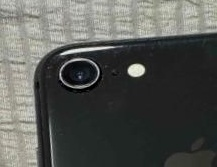scratch: (34, 22, 217, 96)
